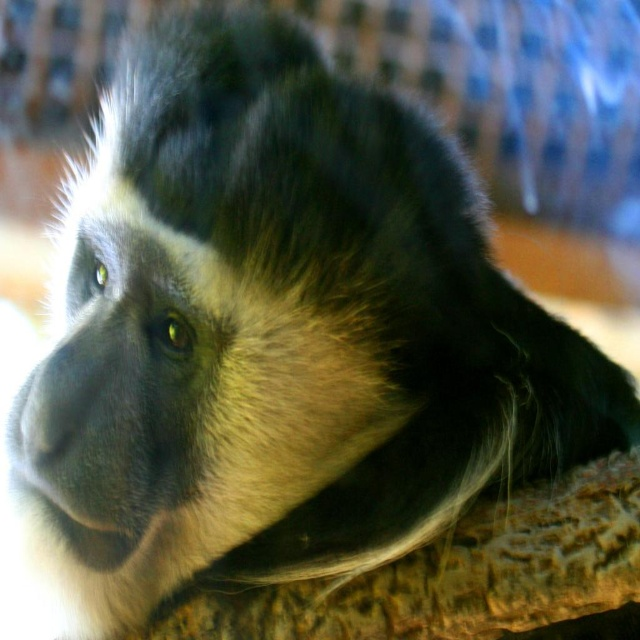Monkey: (23, 39, 626, 640)
